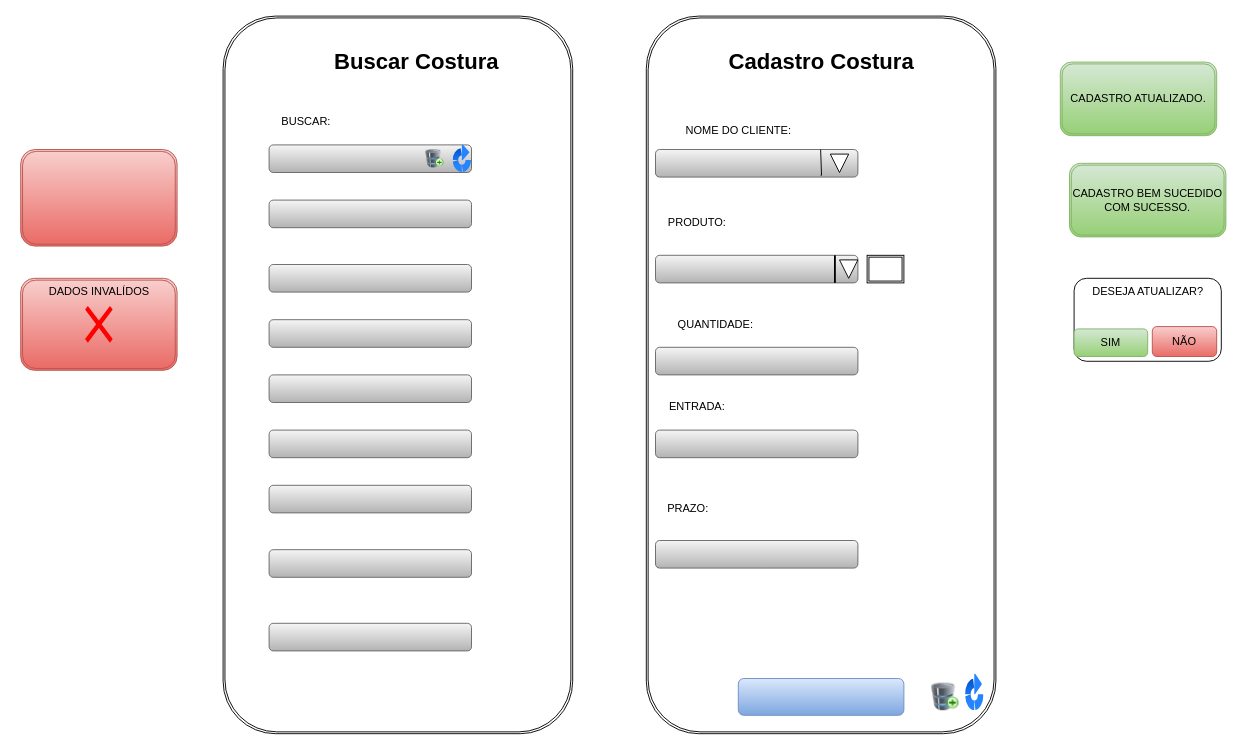
Some shapes in this 1242 by 750 pixel diagram are drawn without their labels. The shapes that lost their labels are listed below. From the top down, each one's centre as x and y in pixels, then its label:
At point (98, 197): "BUSCA NÃO ENCONTRADA".
At point (820, 696): "CADASTRAR".
